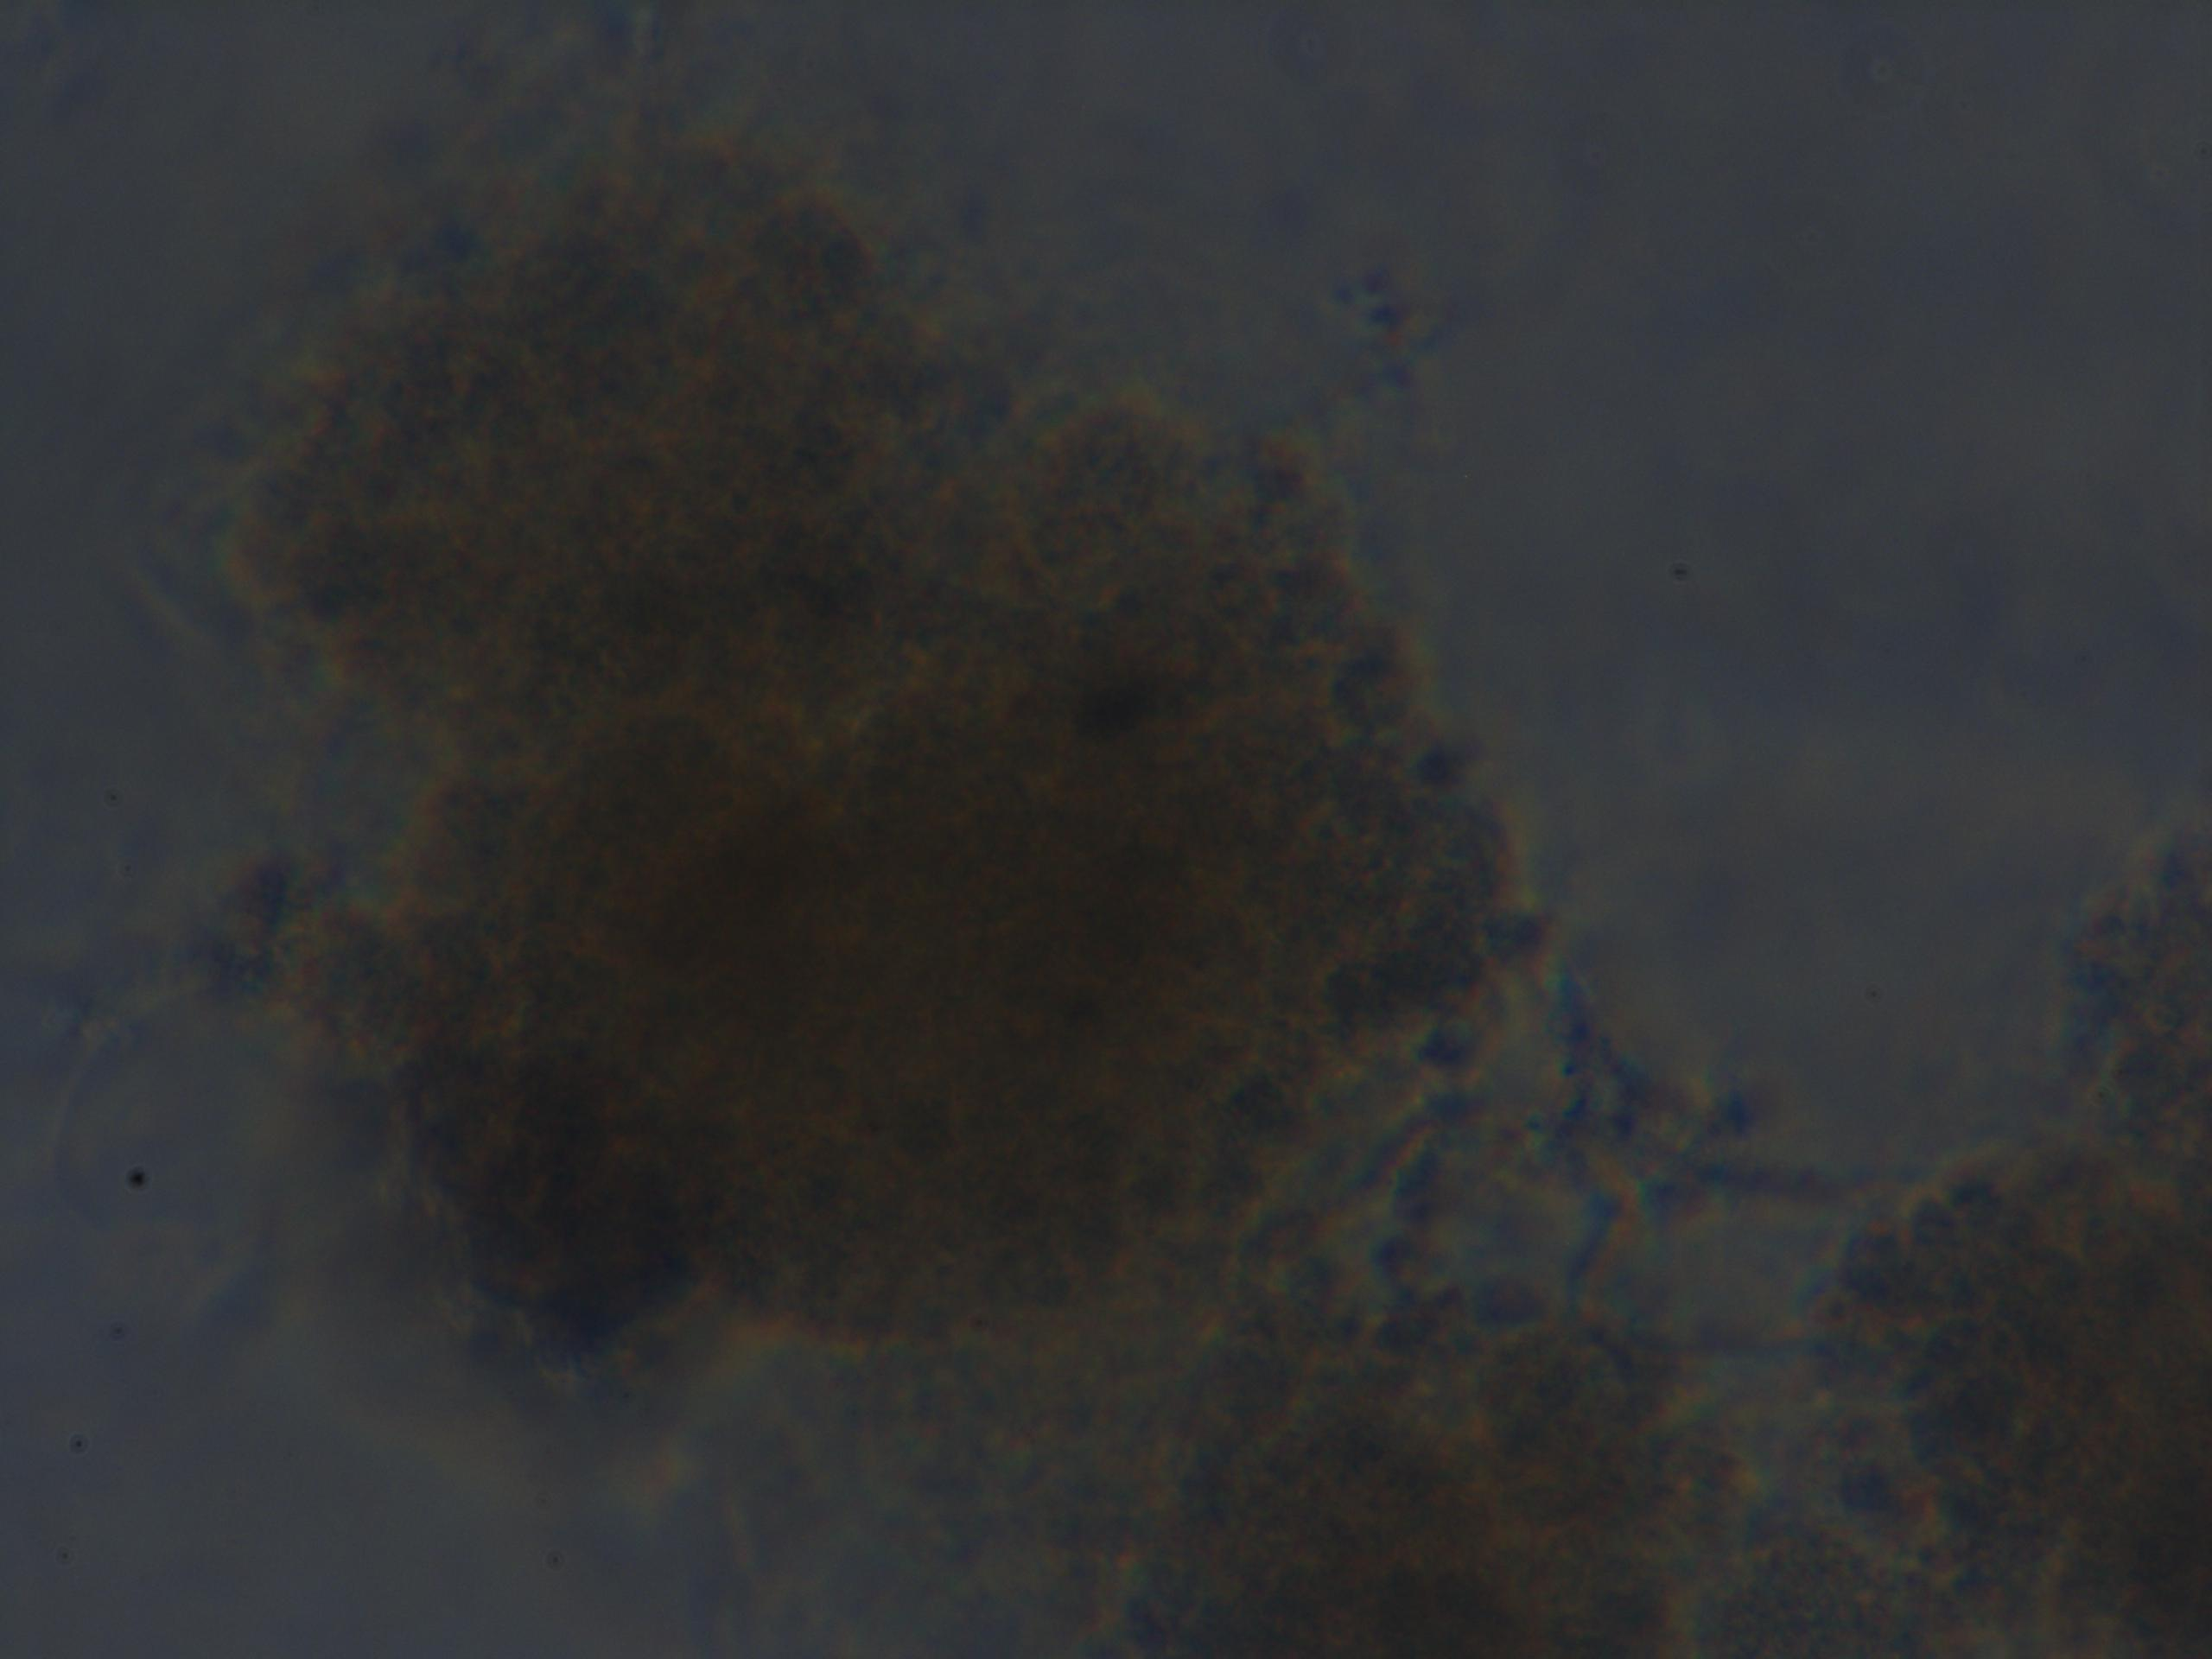spherical_floc: (221, 146, 1543, 1361)
